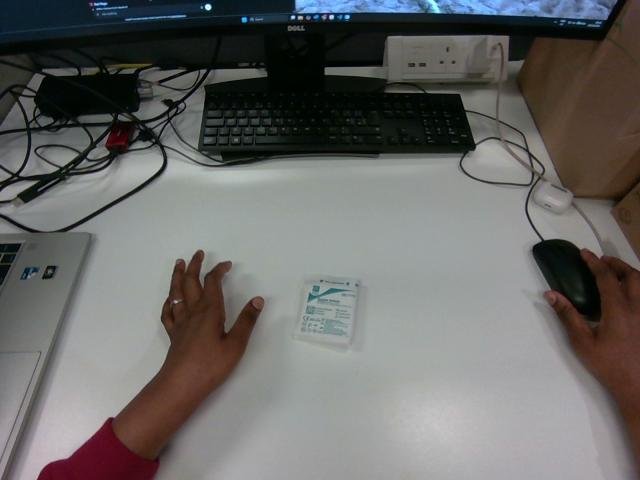gauze: (294, 276, 358, 349)
